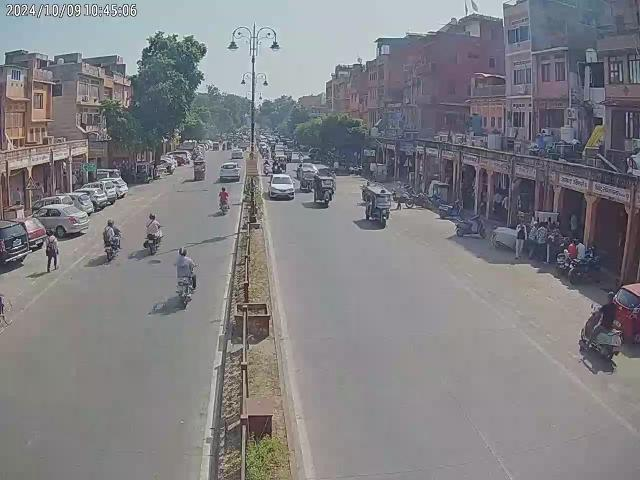auto: (363, 184, 392, 226), (312, 168, 336, 206), (297, 163, 317, 189), (192, 158, 206, 182)
car: (29, 203, 90, 236), (0, 216, 32, 273), (613, 281, 640, 345), (10, 218, 46, 248), (82, 180, 116, 205), (267, 174, 295, 200), (95, 177, 129, 197), (66, 192, 94, 214), (78, 188, 108, 208), (218, 161, 242, 183), (174, 150, 192, 166), (292, 152, 308, 162), (230, 148, 243, 158)
helmet: (178, 246, 188, 258), (148, 212, 157, 222), (106, 218, 115, 228), (221, 187, 226, 193)
motorbike: (568, 255, 602, 284)
motorbike-rider: (581, 291, 622, 360), (174, 246, 198, 306), (143, 212, 163, 256), (102, 218, 121, 262), (218, 186, 230, 214)
no_helmet: (606, 292, 616, 306)
person: (44, 230, 59, 272), (567, 235, 586, 263), (537, 221, 548, 263), (515, 220, 526, 260), (394, 180, 404, 212)
scooty: (454, 212, 487, 238), (437, 198, 465, 220)
